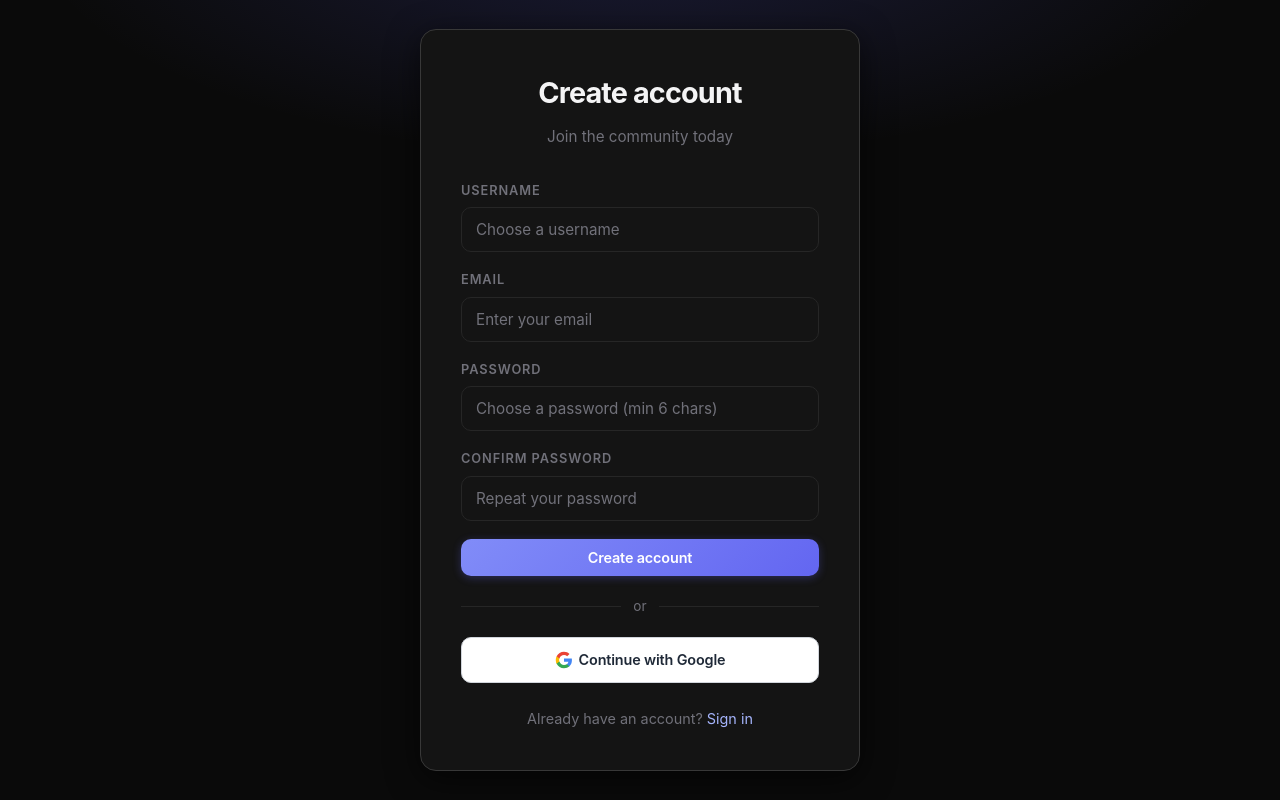
Test case: RegisterPage › Client-side validation › shows error when password is too short
Type "abc" into the password field with placeholder "Choose a password (min 6 chars)" at {"x": 640, "y": 409}, box [461,386,819,431]
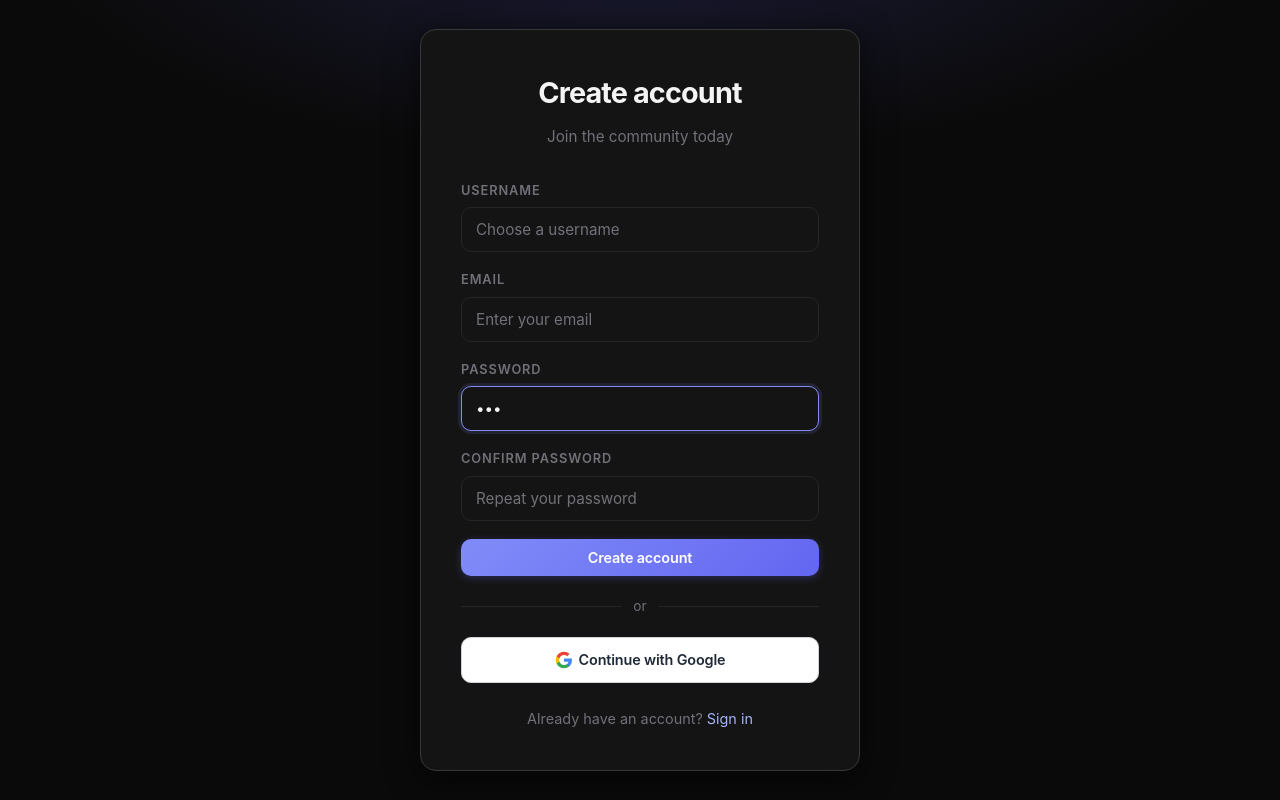
Click the button "Create account" at {"x": 640, "y": 557}, box [461,539,819,576]
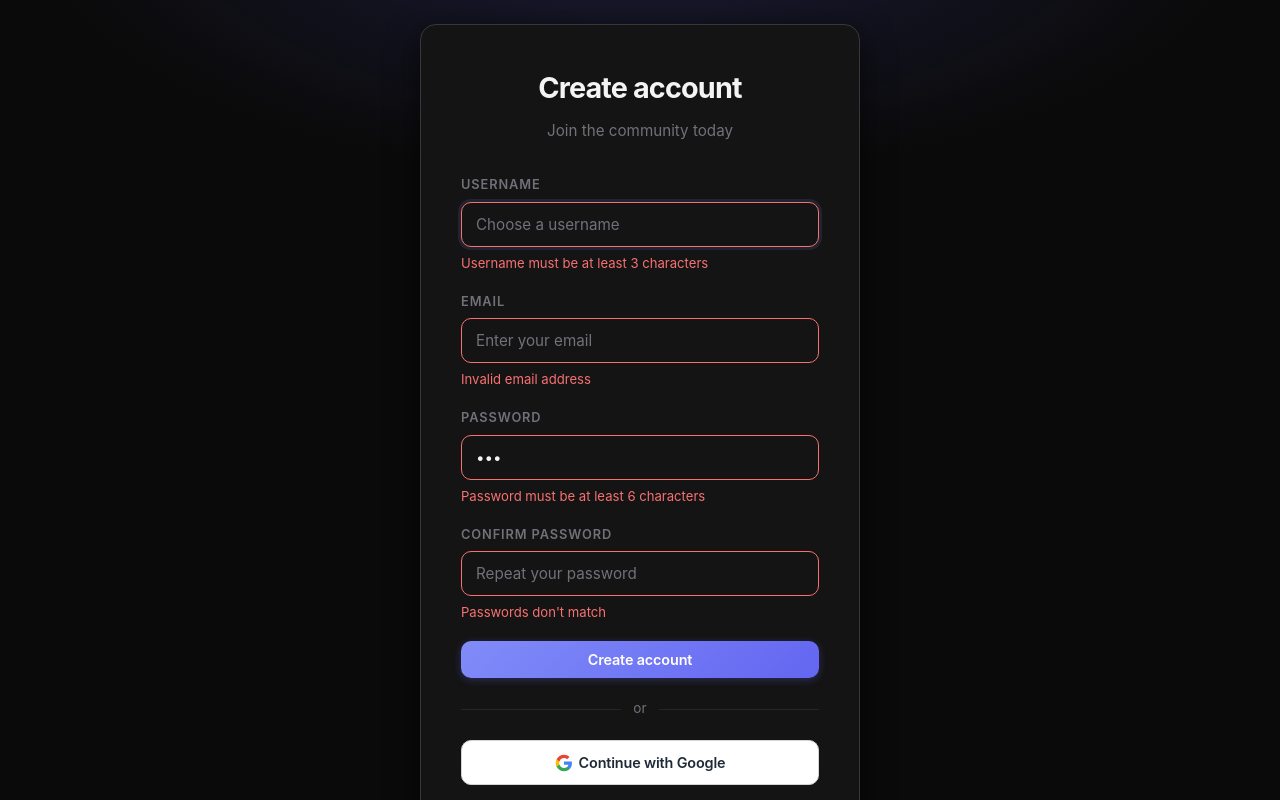
Expected: the text "Password must be at least 6 characters" is shown, [461,488,705,504]
